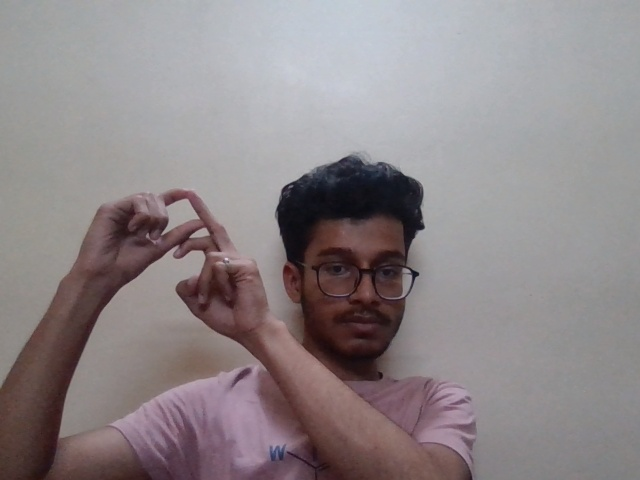R: (62, 183, 283, 346)
